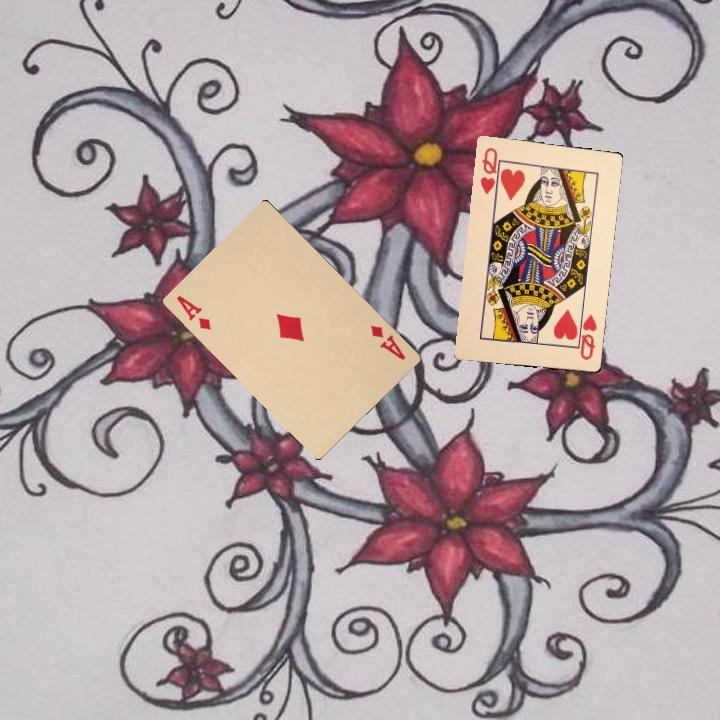Ad: (172, 291, 214, 333), (367, 321, 408, 363)
Qh: (476, 143, 504, 199), (572, 309, 599, 362)
